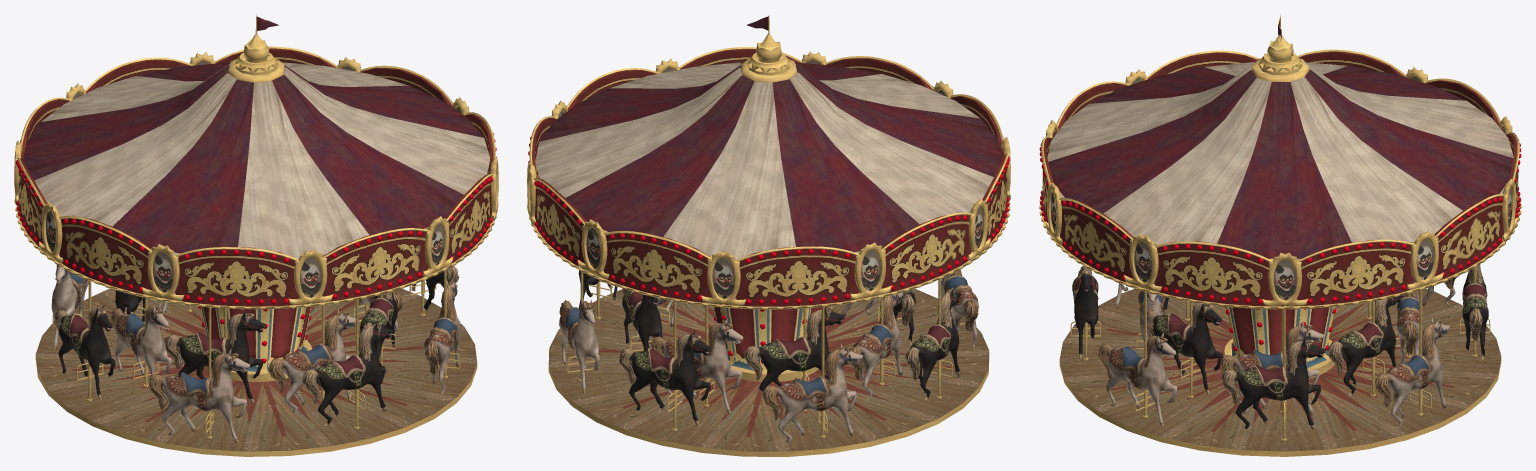
The model's file is Carrusel.obj.
3 renders of one model, left to right at view 1: azimuth 30°, elevation 25°; view 2: azimuth 150°, elevation 25°; view 3: azimuth 270°, elevation 25°, orthographic.
Visible parts, largest first — view 1: Carrusel; view 2: Carrusel; view 3: Carrusel.
Part boxes in pixels (x1,y1,x2,y2): Carrusel: (14, 14, 498, 456); Carrusel: (527, 15, 1010, 456); Carrusel: (1039, 14, 1521, 456).
Bounding box in the file's own units: 40.69 × 33.24 × 40.55.
